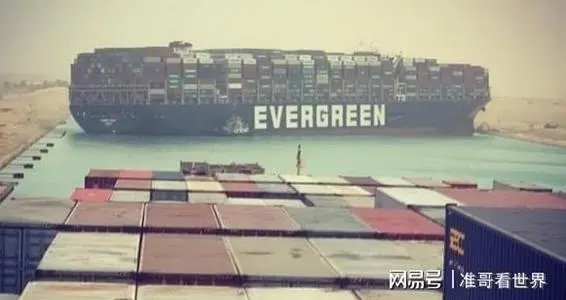Cargoship: (66, 34, 496, 133)
